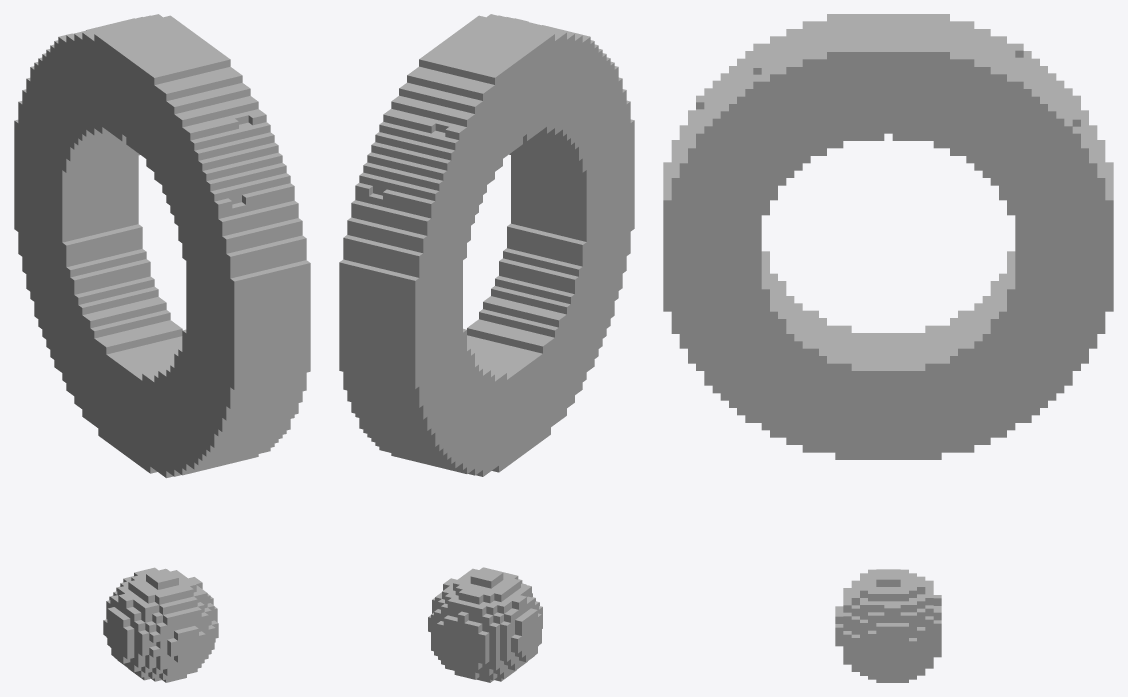
3 renders of one model, left to right at view 1: azimuth 30°, elevation 25°; view 2: azimuth 150°, elevation 25°; view 3: azimuth 270°, elevation 25°, orthographic. The views are drawn at different scales.
Visible parts, largest first — view 1: logo_13x86x55; view 2: logo_13x86x55; view 3: logo_13x86x55.
Boxes of the visible parts, x1=… form: logo_13x86x55: x1=14, y1=14, x2=310, y2=682; logo_13x86x55: x1=339, y1=14, x2=634, y2=682; logo_13x86x55: x1=663, y1=14, x2=1113, y2=682.
Size of the model in its own units: 13 by 86 by 55.
1 material, 1 textured.
